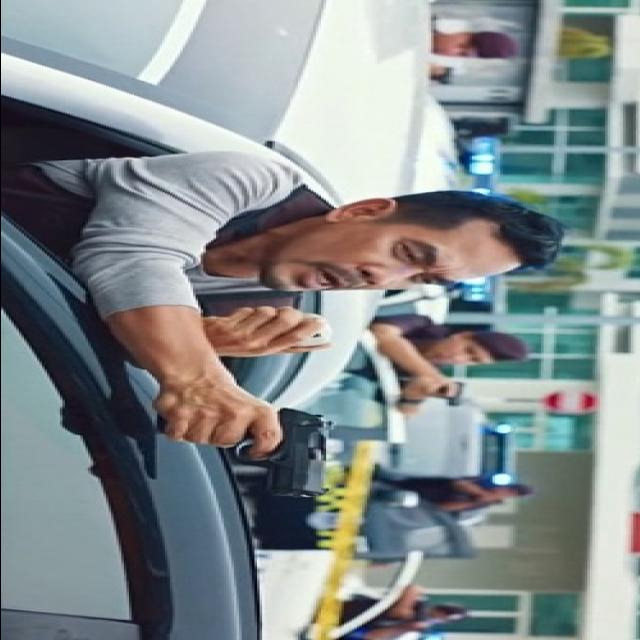weapons: (137, 396, 360, 510)
